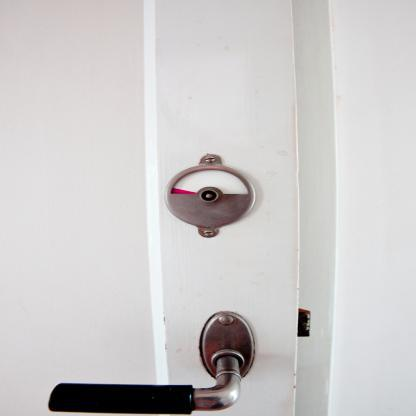door: (0, 0, 322, 415)
lever: (42, 380, 246, 416)
